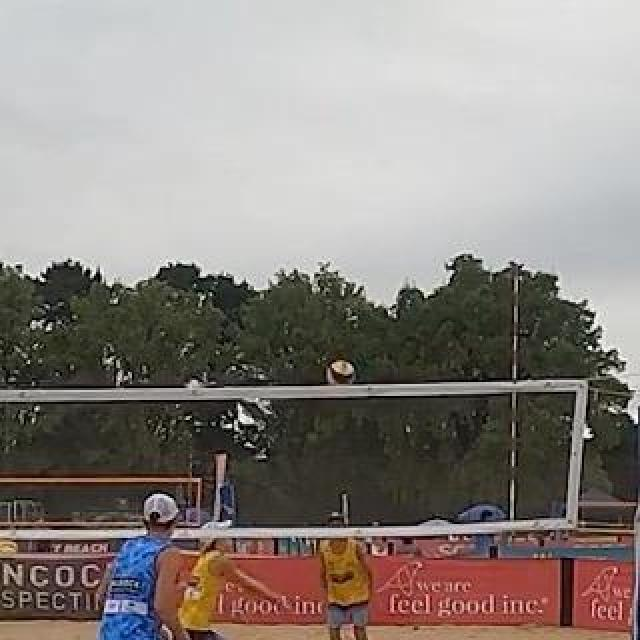volleyball: (327, 360, 355, 388)
